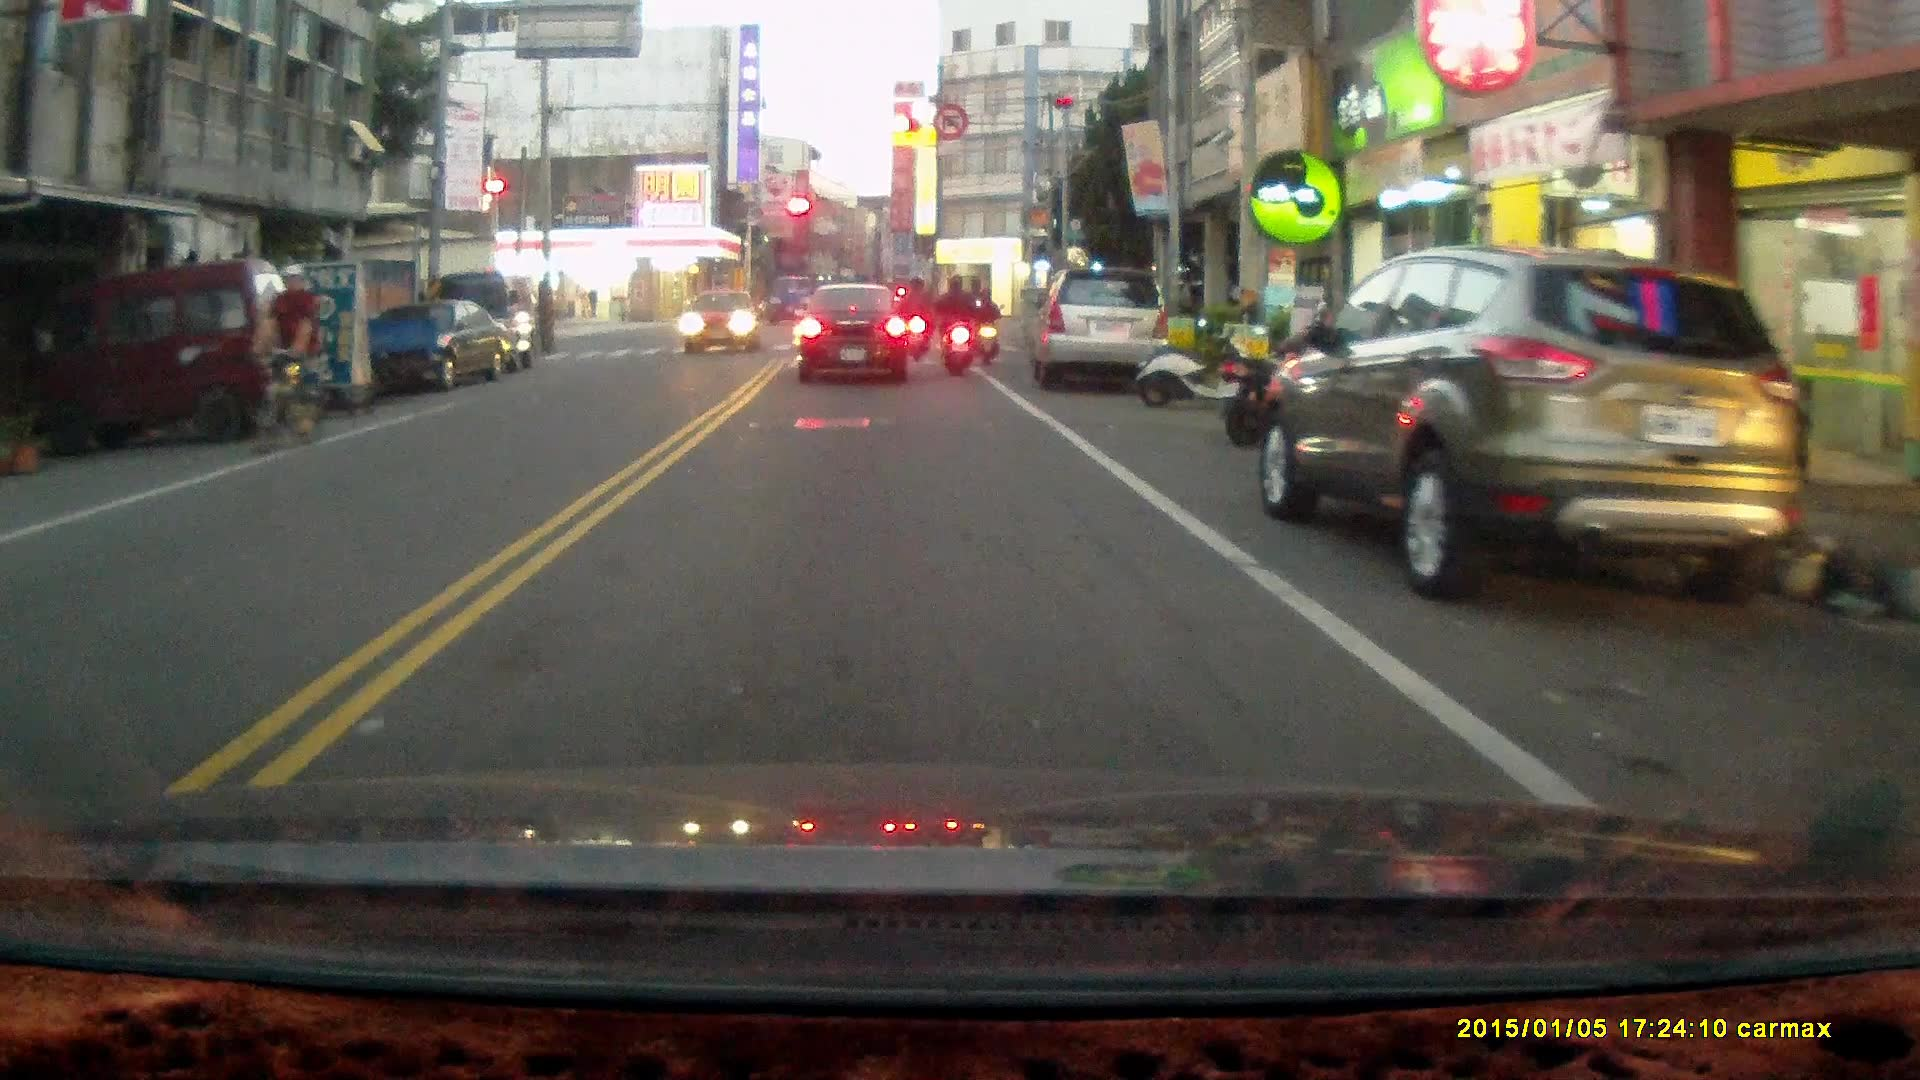rider: (246, 262, 326, 458), (933, 271, 982, 378), (895, 273, 932, 363), (972, 284, 1002, 366)
vehicle: (1261, 246, 1808, 607), (19, 259, 306, 448), (1030, 267, 1175, 395), (371, 296, 508, 393), (800, 281, 916, 388), (686, 288, 766, 357)
